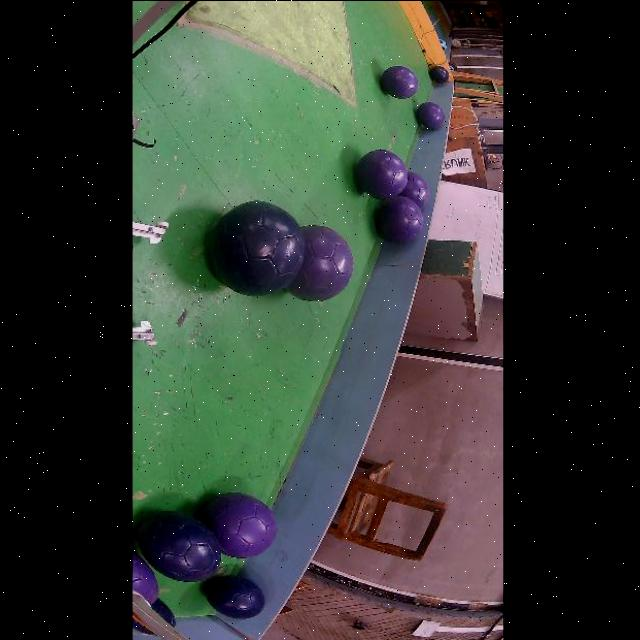B: (209, 199, 305, 295), (137, 510, 221, 581), (206, 575, 265, 618), (429, 65, 449, 82)
P: (286, 224, 354, 300), (200, 491, 276, 557), (355, 149, 408, 198), (376, 196, 423, 241), (132, 552, 159, 603), (381, 65, 418, 98), (399, 171, 430, 207), (416, 101, 444, 127)
